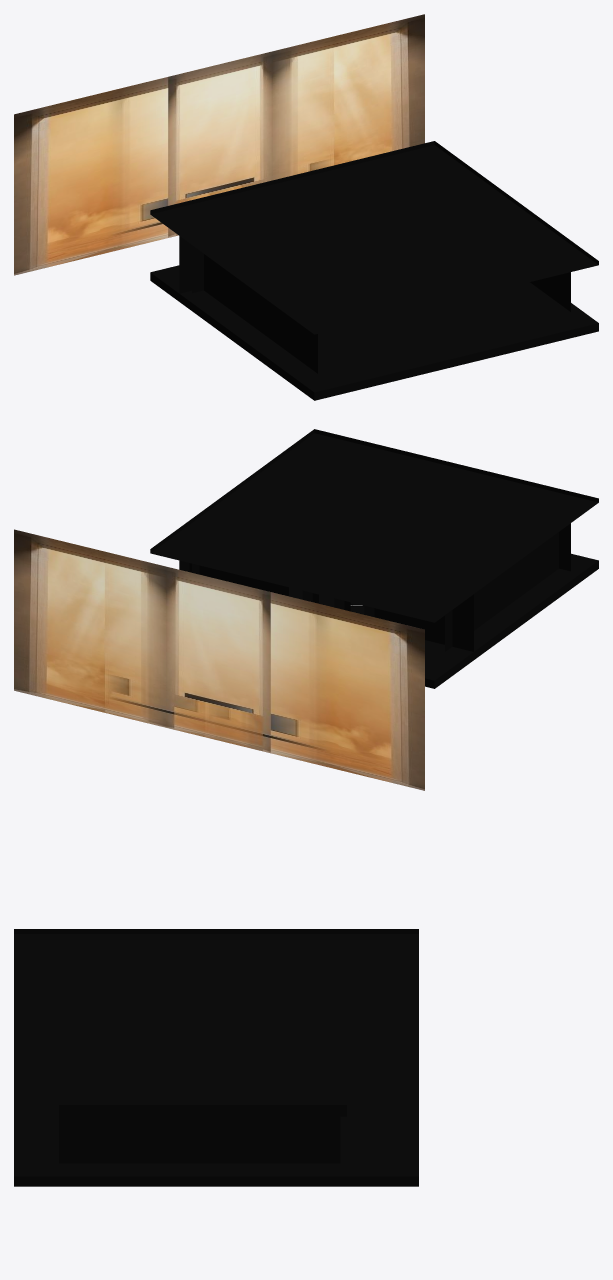
File: monolithic_amber_vault.glb
3 views of the same model, one above another, from view 1: azimuth 30°, elevation 25°; view 2: azimuth 150°, elevation 25°; view 3: azimuth 270°, elevation 25° (orthographic). The views are drawn at different scales.
Visible parts, largest first — view 1: Vault_Chamber_Baked, Sandstorm_Sky_Backdrop; view 2: Sandstorm_Sky_Backdrop, Vault_Chamber_Baked; view 3: Vault_Chamber_Baked.
Part boxes in pixels (bbox=[...]): Vault_Chamber_Baked: bbox=[150, 141, 598, 400]; Sandstorm_Sky_Backdrop: bbox=[14, 14, 424, 275]; Sandstorm_Sky_Backdrop: bbox=[14, 529, 424, 790]; Vault_Chamber_Baked: bbox=[150, 429, 598, 688]; Vault_Chamber_Baked: bbox=[14, 929, 418, 1186].
Size of the model in its own units: 52 by 19.5 by 52.
15 materials, 2 textured.
